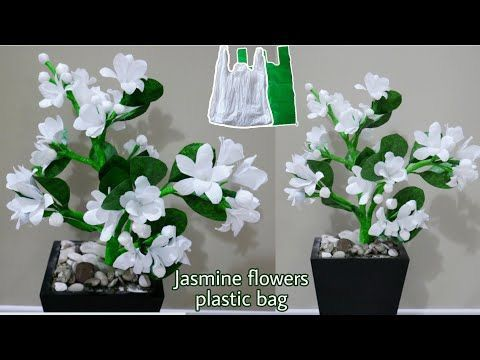jasmine: (5, 165, 165, 264), (28, 52, 155, 135), (387, 123, 463, 239), (176, 140, 263, 239), (277, 131, 346, 200), (293, 68, 369, 118)
